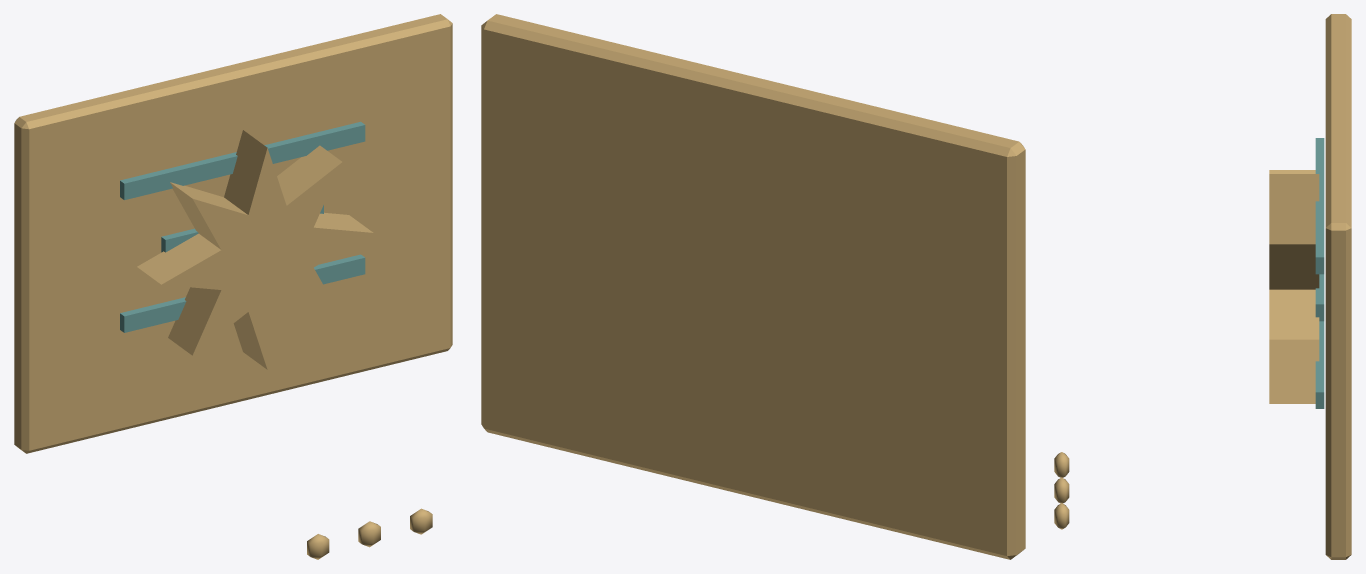
The picture shows the model from 3 angles, left to right: view 1: azimuth 30°, elevation 25°; view 2: azimuth 150°, elevation 25°; view 3: azimuth 270°, elevation 25°; orthographic projection. The views are drawn at different scales.
Parts seen in each view (by area): view 1: g_s62; view 2: g_s62; view 3: g_s62.
Boxes of the visible parts, left/top/right/bottom form: g_s62: left=14, top=14, right=452, bottom=559; g_s62: left=481, top=14, right=1025, bottom=559; g_s62: left=1054, top=14, right=1351, bottom=559.
Bounding box in the file's own units: 0.2924 × 0.246 × 0.1719.
